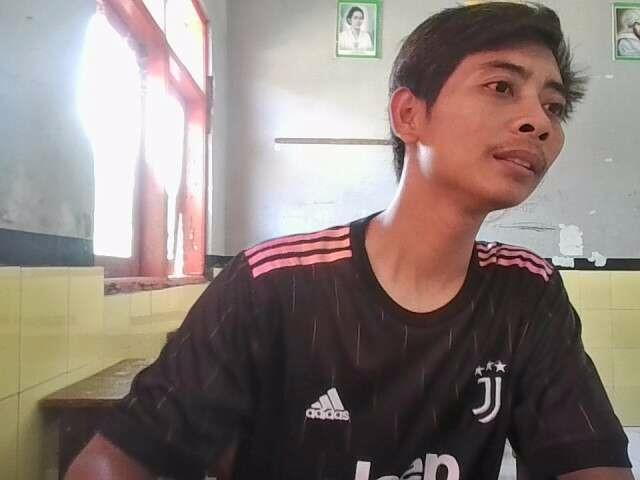cheating: (47, 3, 636, 480)
